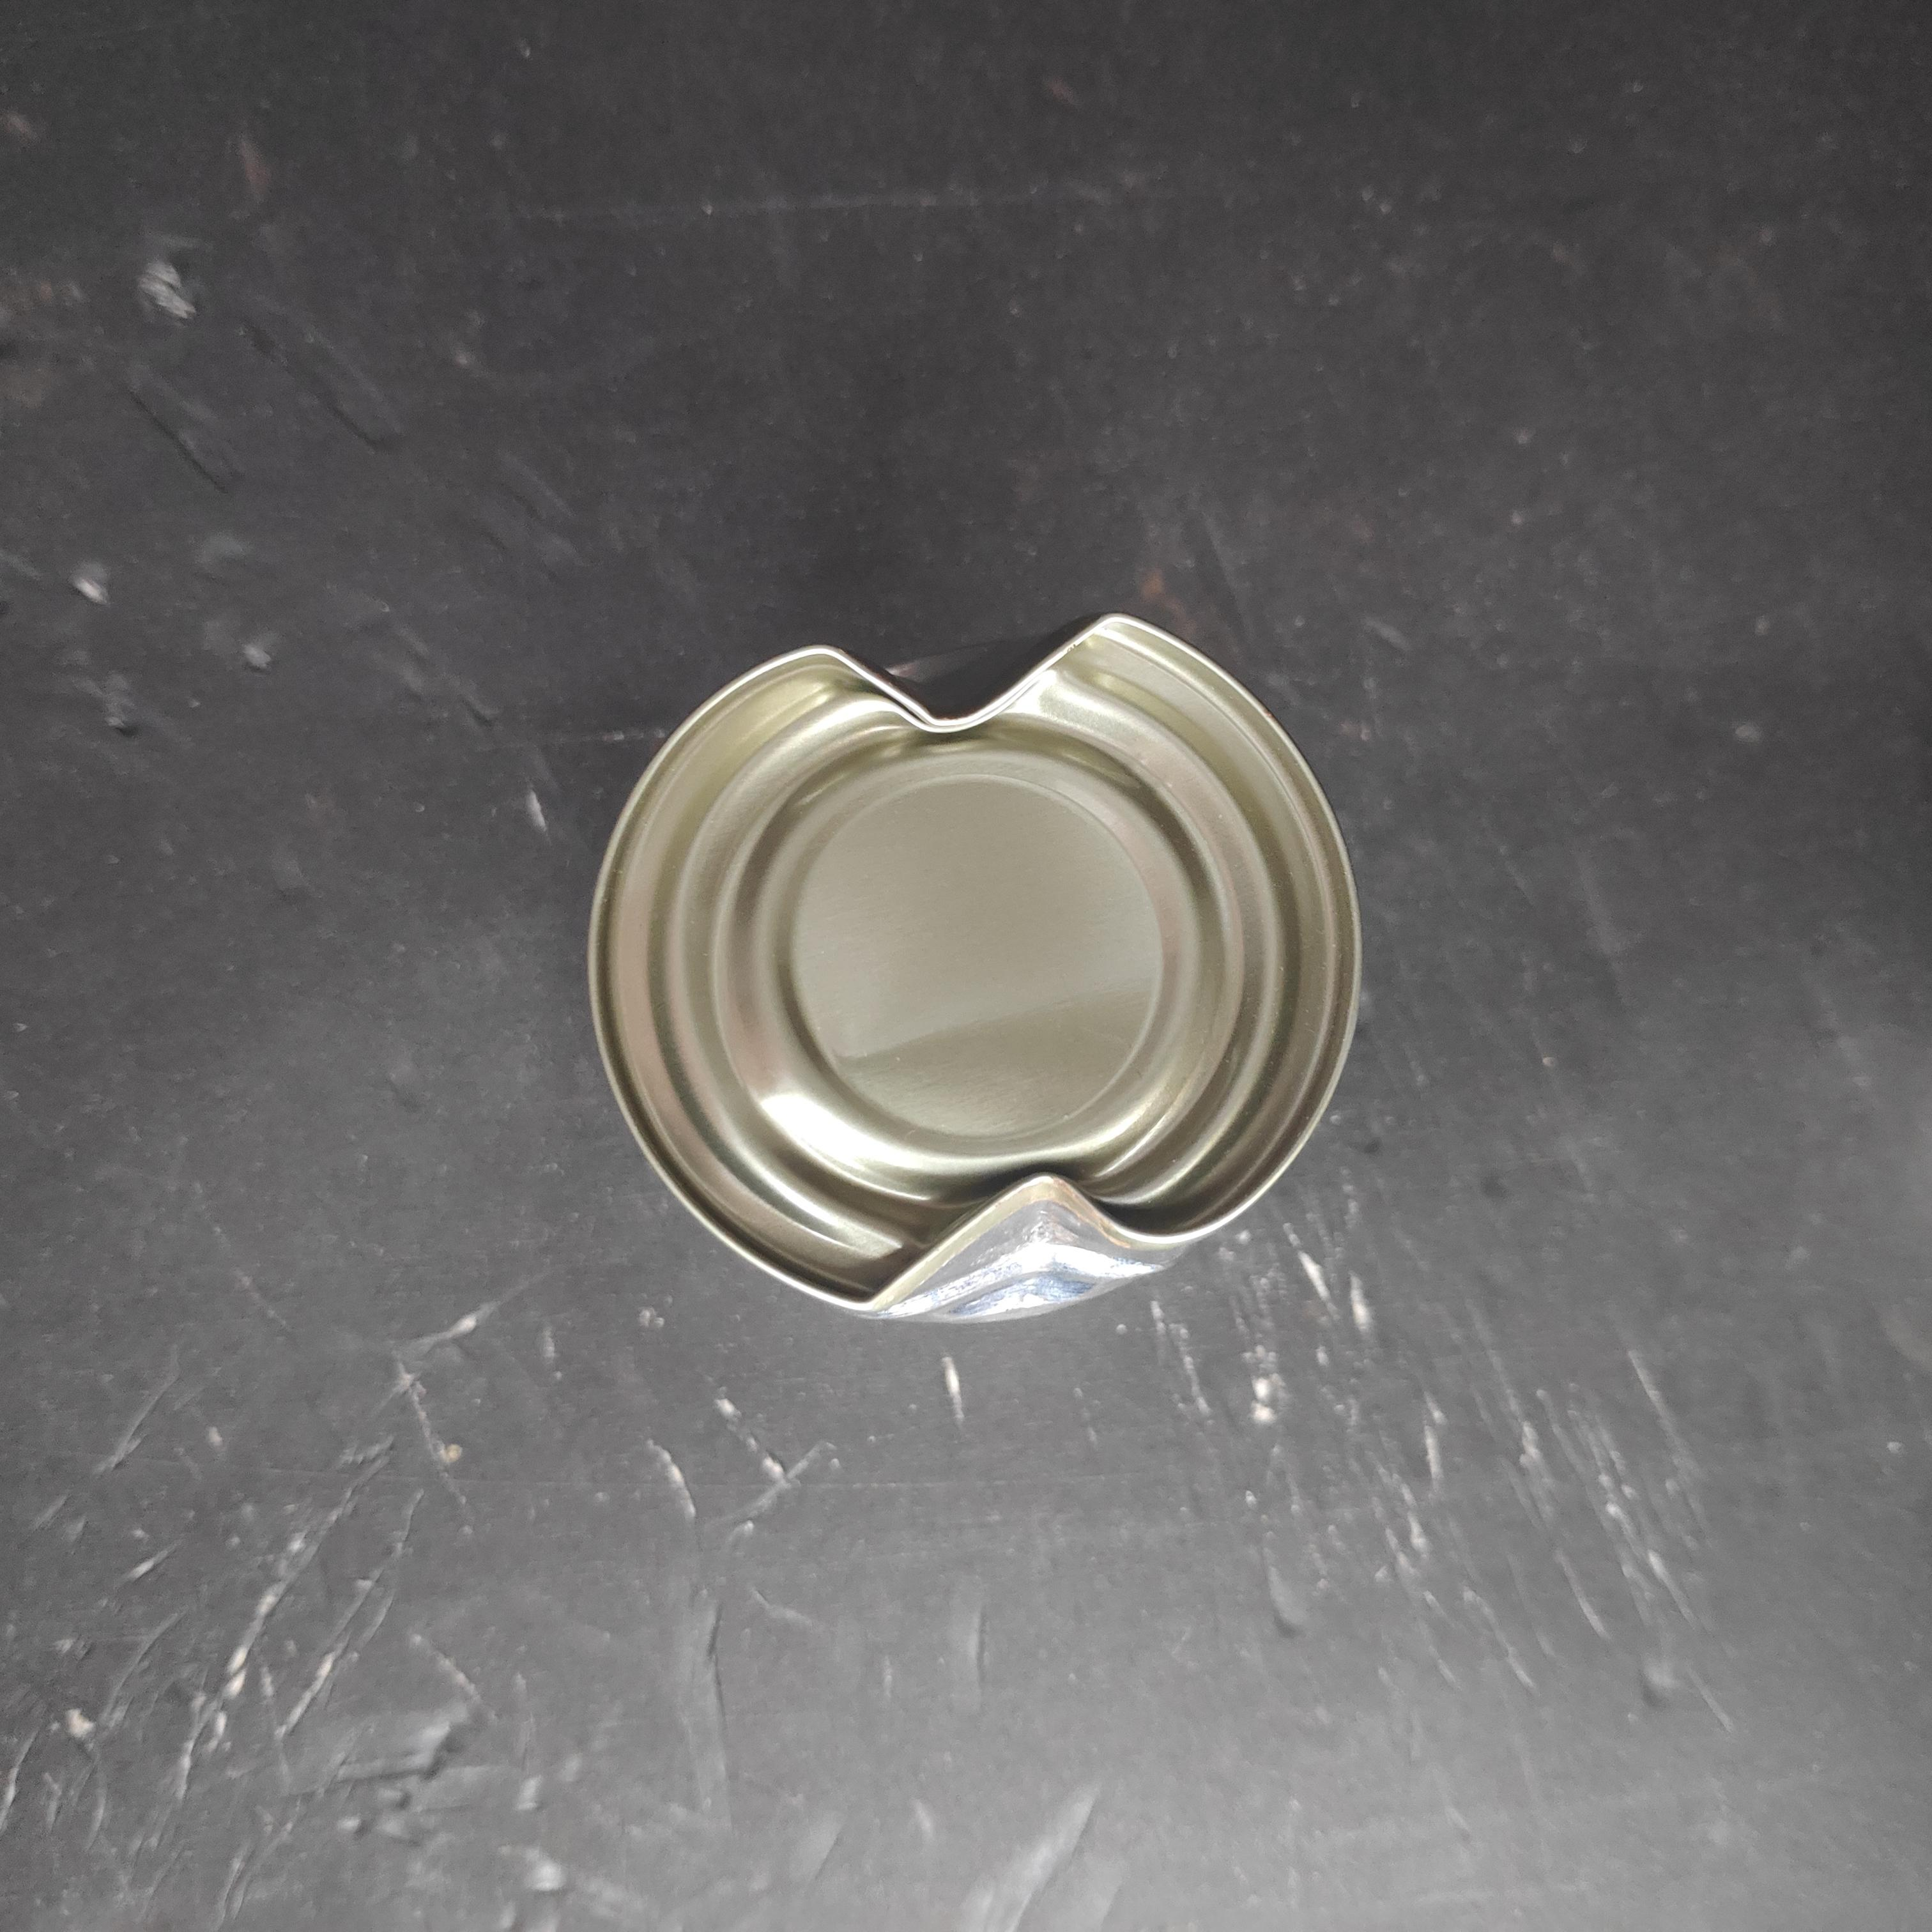Critical Defect: (602, 556, 1332, 1354)
